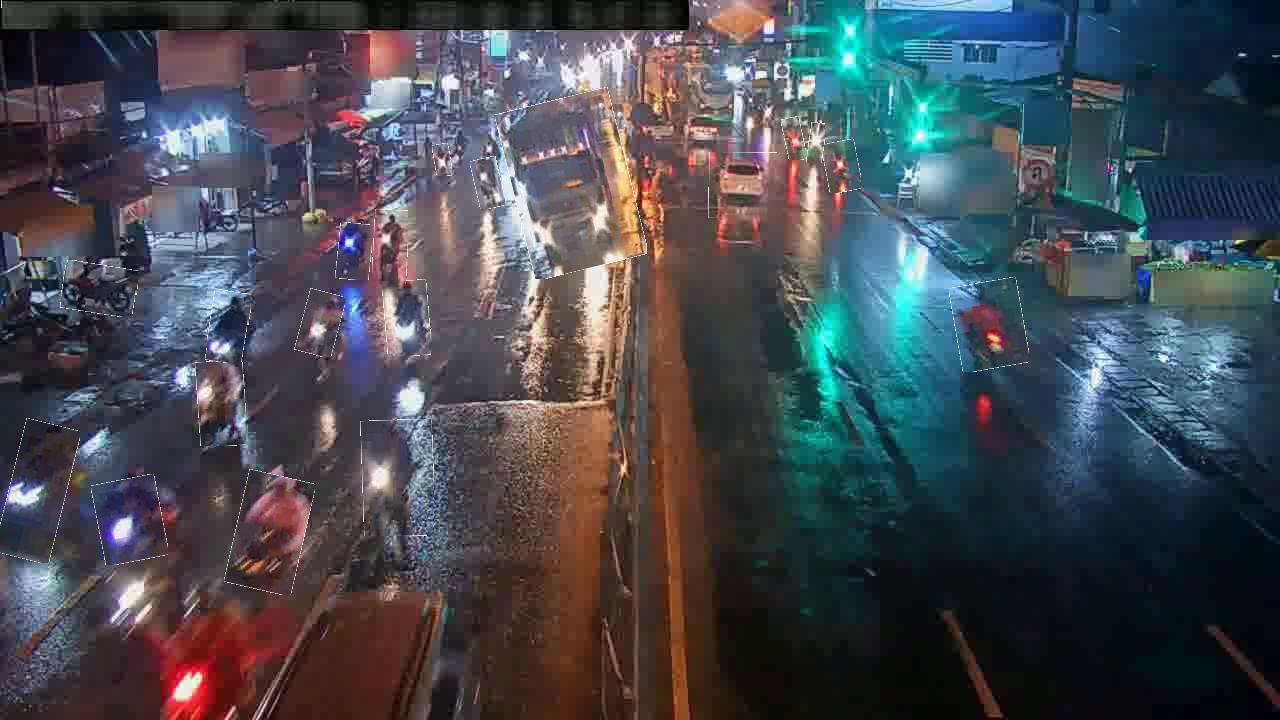8: (505, 93, 639, 275)
container: (709, 153, 788, 219)
motorbike: (1, 421, 73, 562), (230, 472, 310, 593), (361, 420, 434, 537), (953, 280, 1027, 371), (94, 476, 166, 564), (197, 360, 246, 447), (62, 262, 138, 316), (384, 280, 431, 357), (208, 290, 250, 363), (298, 290, 343, 357), (373, 210, 409, 285), (337, 223, 372, 281), (823, 141, 860, 193), (472, 157, 504, 209), (783, 117, 805, 161), (808, 123, 825, 164), (434, 144, 452, 177)
